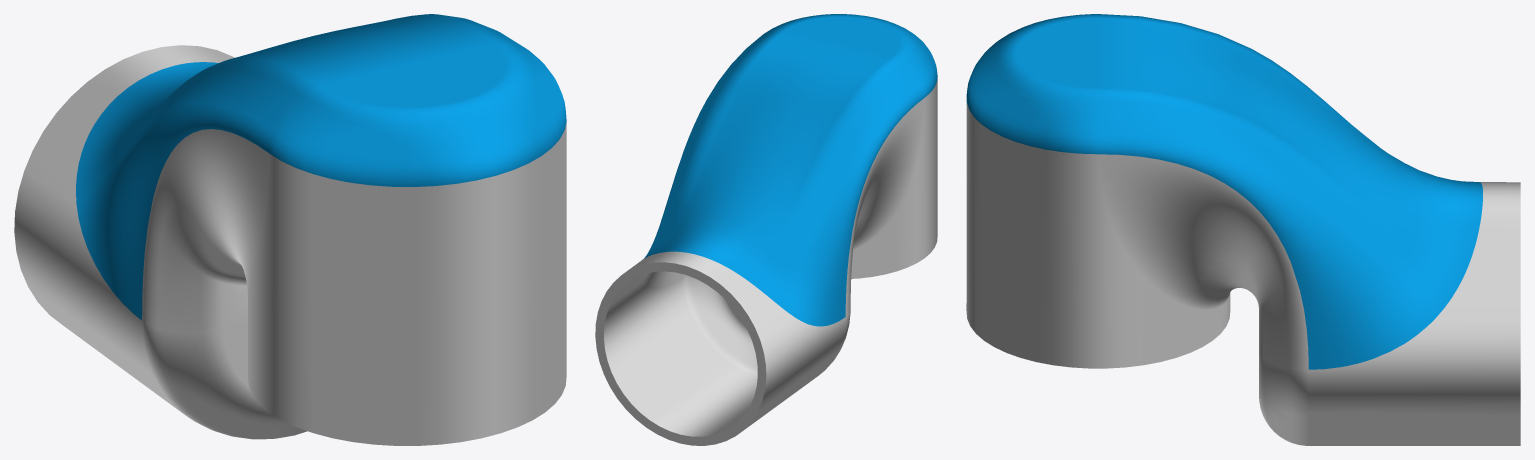
The picture shows the model from 3 angles, left to right: view 1: azimuth 30°, elevation 25°; view 2: azimuth 150°, elevation 25°; view 3: azimuth 270°, elevation 25°; orthographic projection. The views are drawn at different scales.
Parts seen in each view (by area): view 1: stitch_result_stitch_all; view 2: stitch_result_stitch_all; view 3: stitch_result_stitch_all.
Part boxes in pixels (x1=…): stitch_result_stitch_all: x1=14, y1=14, x2=566, y2=445; stitch_result_stitch_all: x1=595, y1=14, x2=937, y2=445; stitch_result_stitch_all: x1=966, y1=14, x2=1520, y2=445.
Bounding box in the file's own units: 0.1061 × 0.2225 × 0.1685.
